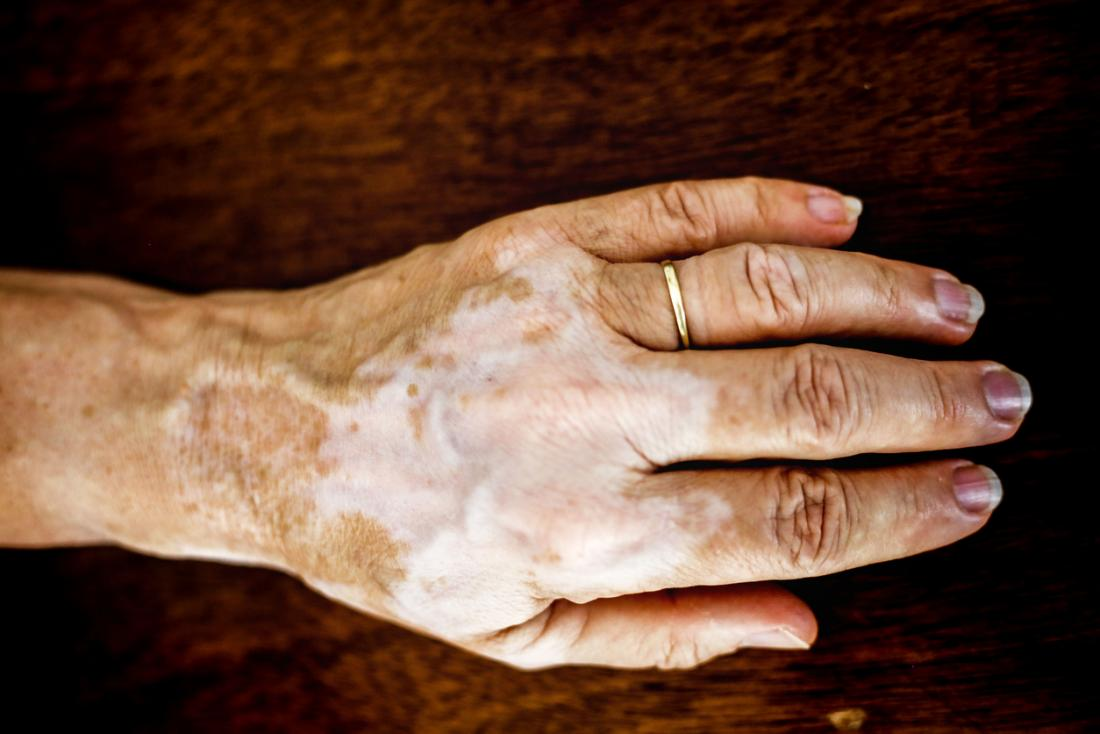vitiligo: (261, 274, 774, 620)
